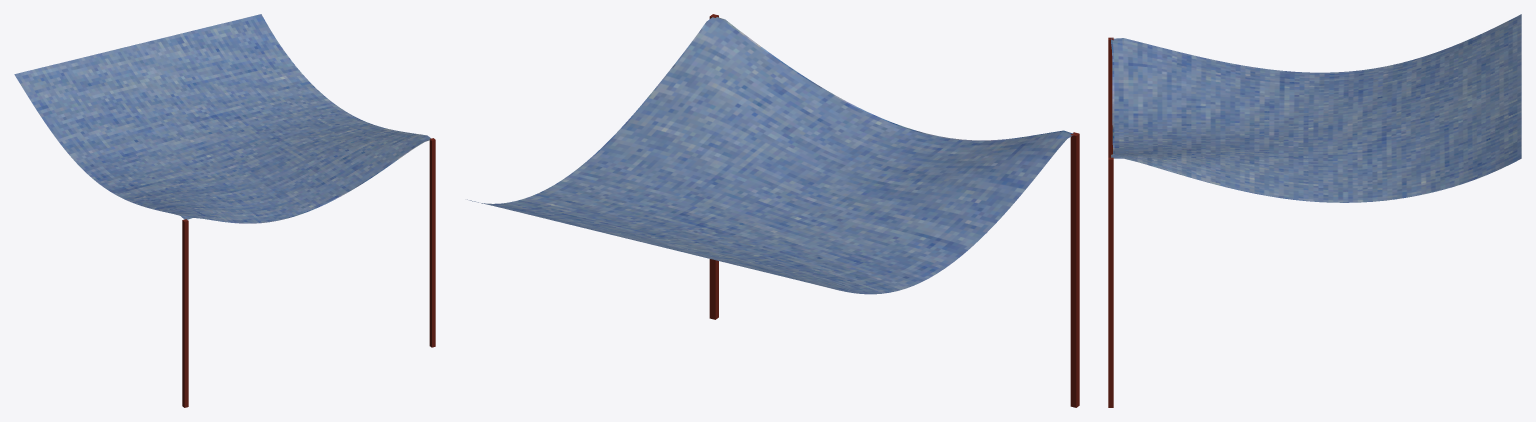
Rendered from shadecloth.glb.
3 renders of one model, left to right at view 1: azimuth 30°, elevation 25°; view 2: azimuth 150°, elevation 25°; view 3: azimuth 270°, elevation 25°, orthographic. The views are drawn at different scales.
Visible parts, largest first — view 1: shade_cloth, Support.001, Support; view 2: shade_cloth, Support, Support.001; view 3: shade_cloth, Support.001, Support.
Part boxes in pixels (bbox=[...]): shade_cloth: bbox=[14, 14, 430, 223]; Support.001: bbox=[429, 138, 435, 347]; Support: bbox=[182, 219, 188, 407]; shade_cloth: bbox=[467, 17, 1073, 294]; Support: bbox=[1070, 132, 1079, 407]; Support.001: bbox=[709, 14, 718, 319]; shade_cloth: bbox=[1111, 14, 1521, 202]; Support.001: bbox=[1108, 157, 1113, 407]; Support: bbox=[1108, 37, 1113, 157].
Bounding box in the file's own units: 2.54 × 2 × 3.02.
Materials: 2 (1 with a texture image).
